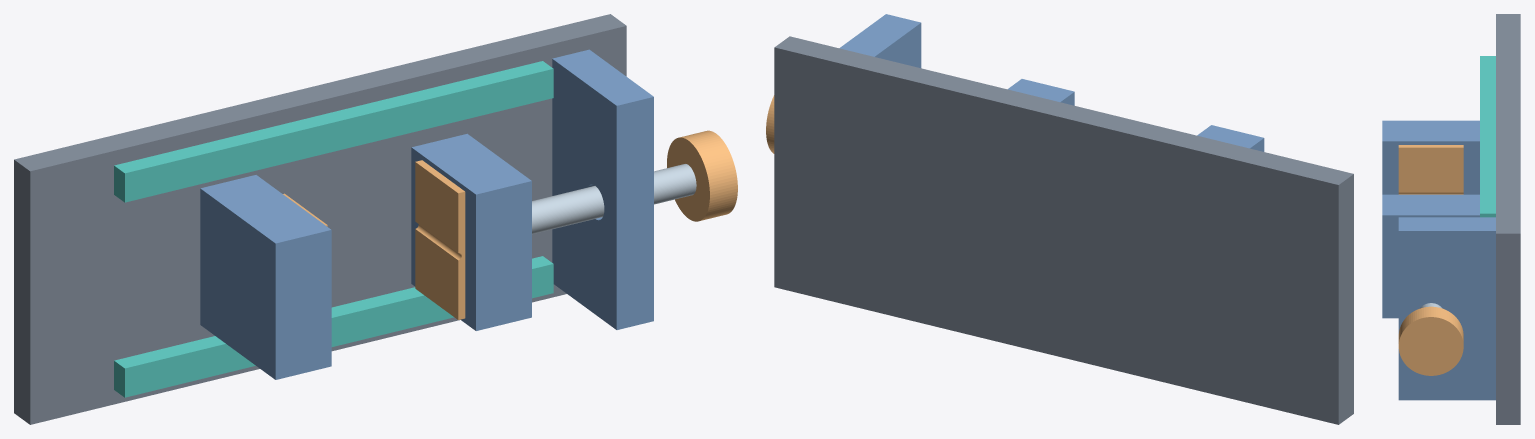
The model's file is assembly.glb.
3 views of the same model, side by side, from view 1: azimuth 30°, elevation 25°; view 2: azimuth 150°, elevation 25°; view 3: azimuth 270°, elevation 25° (orthographic). The views are drawn at different scales.
Visible parts, largest first — view 1: base, actuator_support, fixed_jaw, rail_right, moving_jaw, rail_left, moving_pad, knob, rod; view 2: base, actuator_support, fixed_jaw, moving_jaw; view 3: actuator_support, base, fixed_jaw, moving_jaw, knob, fixed_pad, rail_right.
Part boxes in pixels (box(x1,y1,x2,y2)): base: box(14, 14, 626, 424); actuator_support: box(552, 49, 653, 329); fixed_jaw: box(200, 175, 331, 379); rail_right: box(114, 61, 553, 202); moving_jaw: box(411, 133, 531, 330); rail_left: box(114, 256, 553, 397); moving_pad: box(415, 160, 465, 319); knob: box(667, 130, 737, 221); rod: box(532, 164, 696, 234); base: box(774, 36, 1353, 424); actuator_support: box(839, 14, 921, 68); fixed_jaw: box(1197, 125, 1264, 151); moving_jaw: box(1008, 79, 1074, 105); actuator_support: box(1398, 217, 1495, 400); base: box(1496, 14, 1520, 424); fixed_jaw: box(1382, 120, 1479, 194); moving_jaw: box(1382, 194, 1479, 318); knob: box(1398, 306, 1463, 375); fixed_pad: box(1398, 145, 1463, 194); rail_right: box(1480, 56, 1495, 217).
Size of the model in its own units: 0.1295 by 0.0488 by 0.0319.
